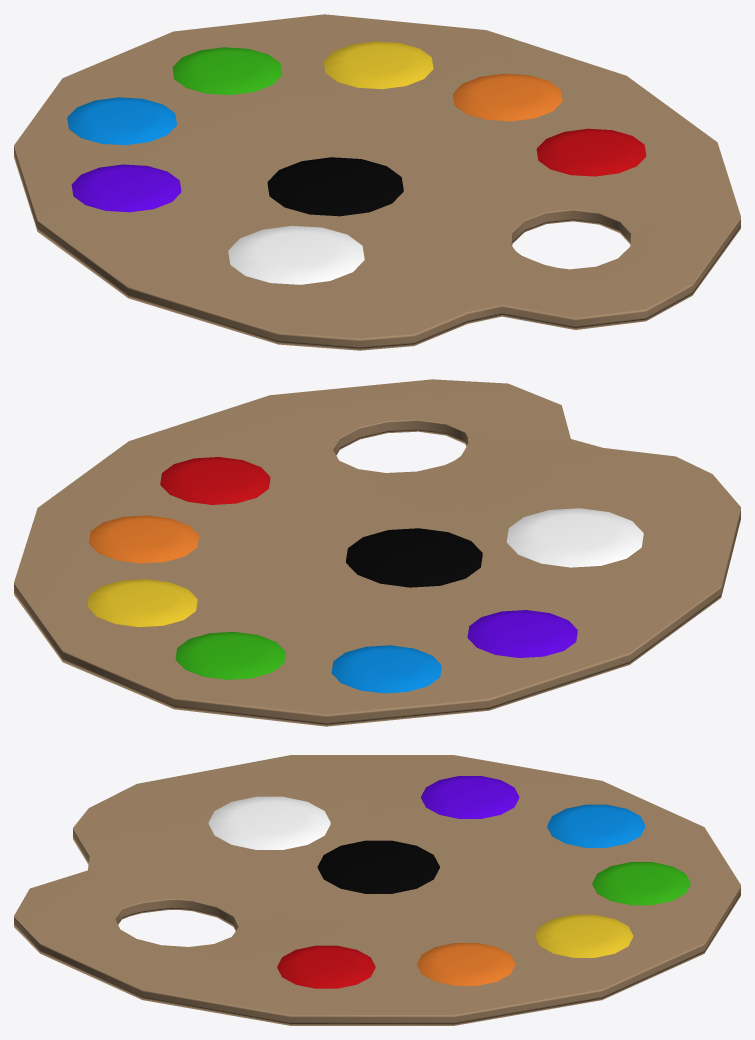
File: Palette.fbx
The picture shows the model from 3 angles, top to bottom: view 1: azimuth 30°, elevation 25°; view 2: azimuth 150°, elevation 25°; view 3: azimuth 270°, elevation 25°; orthographic projection. The views are drawn at different scales.
Visible parts, largest first — view 1: Palette, ColorBlack, ColorWhite, ColorPurple, ColorYellow, ColorRed, ColorOrange, ColorBlue, ColorGreen; view 2: Palette, ColorWhite, ColorBlack, ColorOrange, ColorBlue, ColorRed, ColorYellow, ColorPurple, ColorGreen; view 3: Palette, ColorWhite, ColorBlack, ColorRed, ColorGreen, ColorYellow, ColorBlue, ColorOrange, ColorPurple.
Boxes of the visible parts, x1=… form: Palette: x1=14, y1=14, x2=740, y2=350; ColorBlack: x1=267, y1=157, x2=403, y2=216; ColorWhite: x1=228, y1=225, x2=364, y2=284; ColorPurple: x1=71, y1=164, x2=181, y2=212; ColorYellow: x1=324, y1=41, x2=433, y2=89; ColorRed: x1=536, y1=128, x2=646, y2=176; ColorOrange: x1=453, y1=73, x2=562, y2=121; ColorBlue: x1=67, y1=97, x2=176, y2=145; ColorGreen: x1=172, y1=47, x2=282, y2=94; Palette: x1=14, y1=379, x2=740, y2=726; ColorWhite: x1=506, y1=508, x2=643, y2=567; ColorBlack: x1=346, y1=528, x2=482, y2=587; ColorOrange: x1=89, y1=515, x2=198, y2=563; ColorBlue: x1=331, y1=645, x2=441, y2=693; ColorRed: x1=160, y1=457, x2=270, y2=504; ColorYellow: x1=87, y1=579, x2=197, y2=627; ColorPurple: x1=467, y1=610, x2=577, y2=657; ColorGreen: x1=175, y1=632, x2=285, y2=679; Palette: x1=14, y1=755, x2=740, y2=1025; ColorWhite: x1=208, y1=796, x2=330, y2=849; ColorBlack: x1=317, y1=840, x2=439, y2=893; ColorRed: x1=277, y1=945, x2=375, y2=988; ColorGreen: x1=592, y1=862, x2=690, y2=905; ColorYellow: x1=535, y1=914, x2=633, y2=957; ColorBlue: x1=547, y1=804, x2=645, y2=847; ColorOrange: x1=417, y1=943, x2=515, y2=985; ColorPurple: x1=421, y1=776, x2=519, y2=818.
Size of the model in its own units: 25 by 0.7667 by 29.58.
